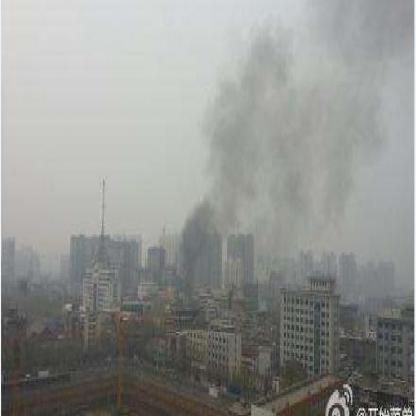smoke: (206, 72, 380, 200), (313, 0, 414, 72), (171, 199, 215, 271), (260, 203, 300, 280), (242, 15, 294, 69)
